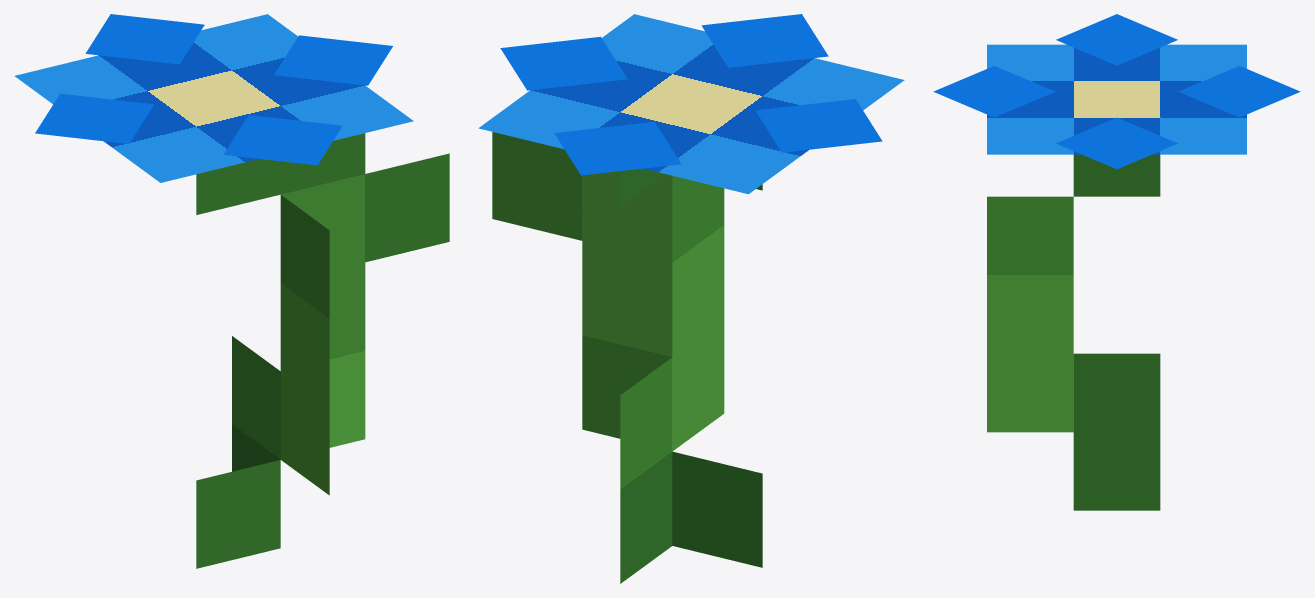
The model's file is BlueFlower.gltf.
The picture shows the model from 3 angles, left to right: view 1: azimuth 30°, elevation 25°; view 2: azimuth 150°, elevation 25°; view 3: azimuth 270°, elevation 25°; orthographic projection. The views are drawn at different scales.
Parts seen in each view (by area): view 1: cube (×4); view 2: cube (×4); view 3: cube (×3).
Boxes of the visible parts, x1=… form: cube (×4): x1=15, y1=14, x2=449, y2=568; cube (×4): x1=478, y1=14, x2=904, y2=583; cube (×3): x1=933, y1=14, x2=1300, y2=510.
Bounding box in the file's own units: 0.2888 × 0.3188 × 0.2652.
Materials: 1 (1 with a texture image).
